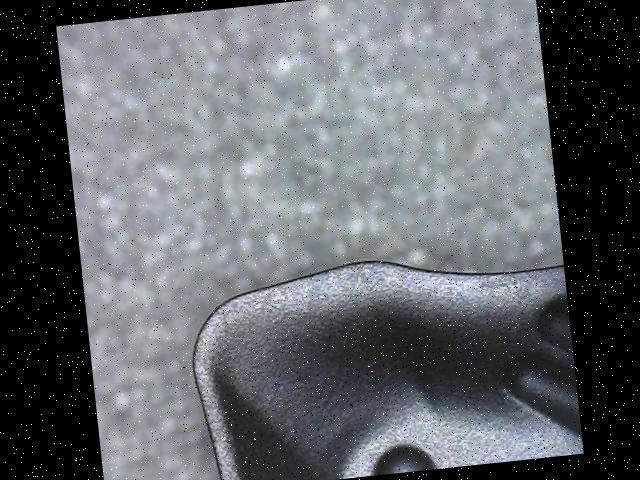normal: (189, 257, 564, 480)
